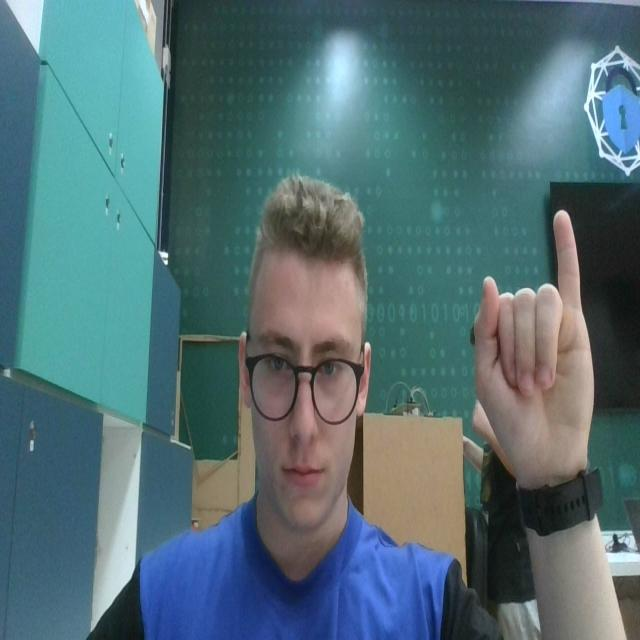I: (465, 206, 598, 464)
